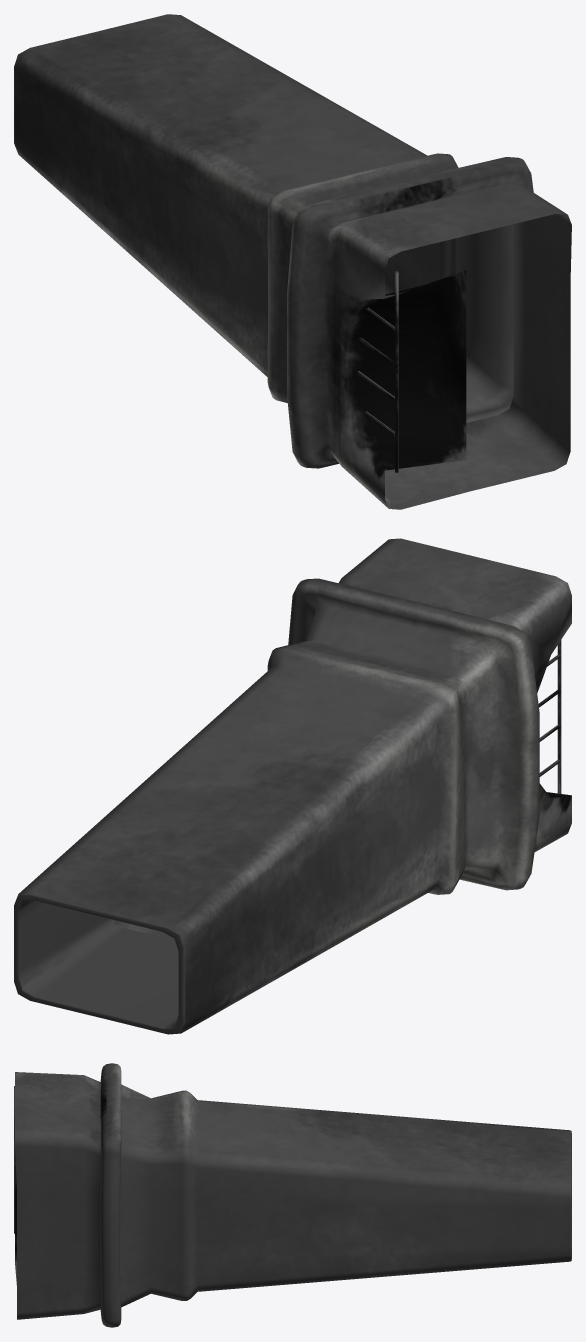
The model's file is Chimenea Fin.FBX.
3 views of the same model, one above another, from view 1: azimuth 30°, elevation 25°; view 2: azimuth 150°, elevation 25°; view 3: azimuth 270°, elevation 25° (orthographic). The views are drawn at different scales.
Parts seen in each view (by area): view 1: Chimenea; view 2: Chimenea; view 3: Chimenea.
Part boxes in pixels (box(x1,y1,x2,y2)): Chimenea: box(14, 14, 571, 509); Chimenea: box(14, 538, 571, 1034); Chimenea: box(14, 1063, 571, 1327).
Size of the model in its own units: 21.04 by 21.33 by 56.14.
1 material, 1 textured.
